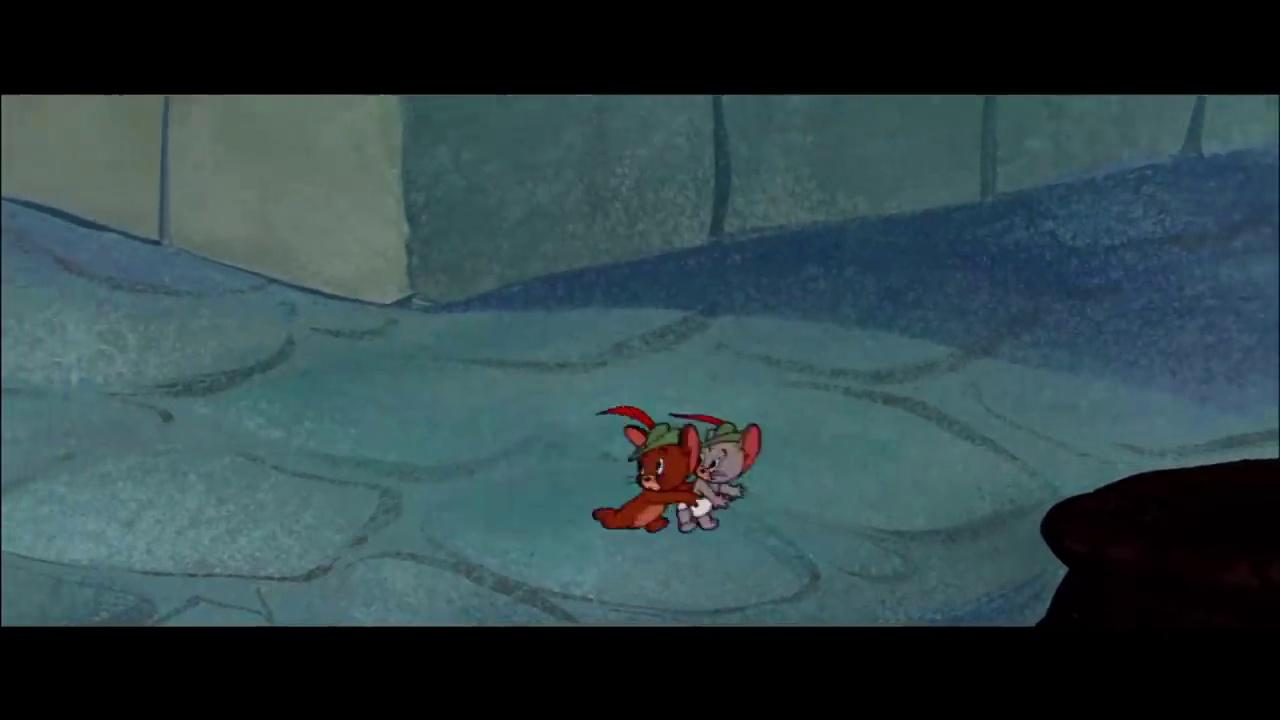Jerry: (591, 421, 703, 534)
